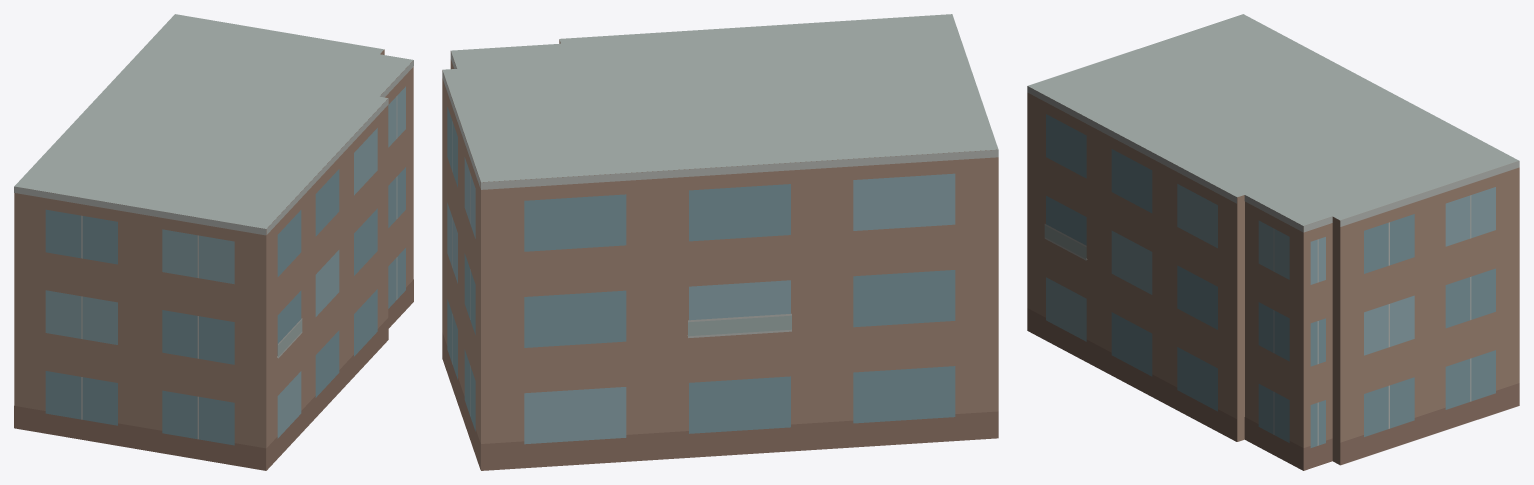
File: survey-upis-32781348.glb
The picture shows the model from 3 angles, left to right: view 1: azimuth 30°, elevation 25°; view 2: azimuth 150°, elevation 25°; view 3: azimuth 270°, elevation 25°; orthographic projection. The views are drawn at different scales.
Visible parts, largest first — view 1: survey-upis-32781348.tmp; view 2: survey-upis-32781348.tmp; view 3: survey-upis-32781348.tmp.
Part boxes in pixels (x1,y1,x2,y2): survey-upis-32781348.tmp: (14,14,413,470); survey-upis-32781348.tmp: (442,14,998,470); survey-upis-32781348.tmp: (1027,14,1519,470).
Bounding box in the file's own units: 17.01 × 9.15 × 16.68.
